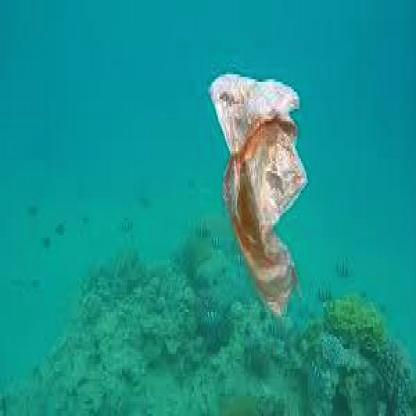pbag: (206, 72, 310, 322)
